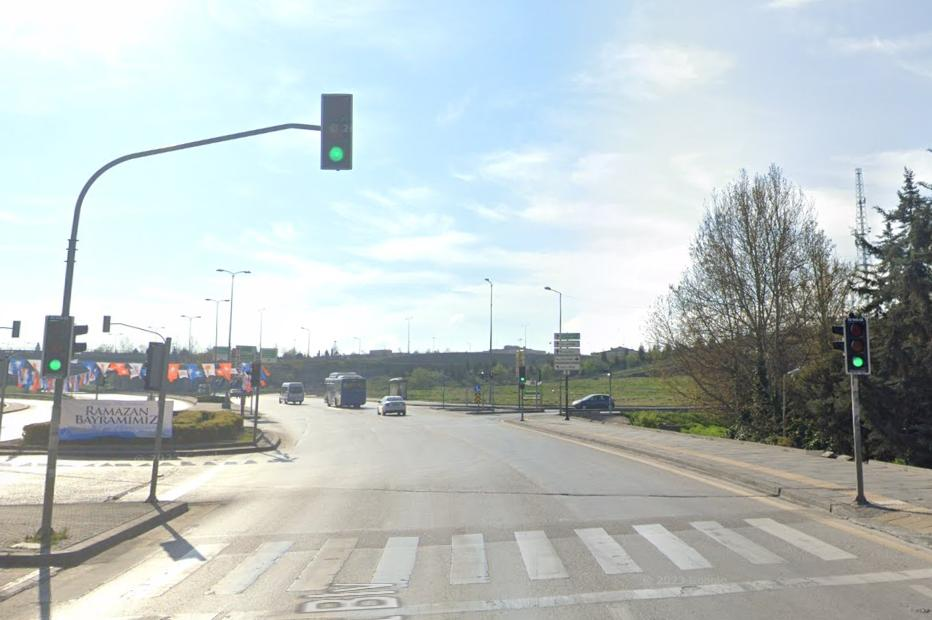greenlight: (323, 95, 351, 166), (45, 315, 67, 374), (846, 317, 868, 372), (520, 366, 525, 381)
